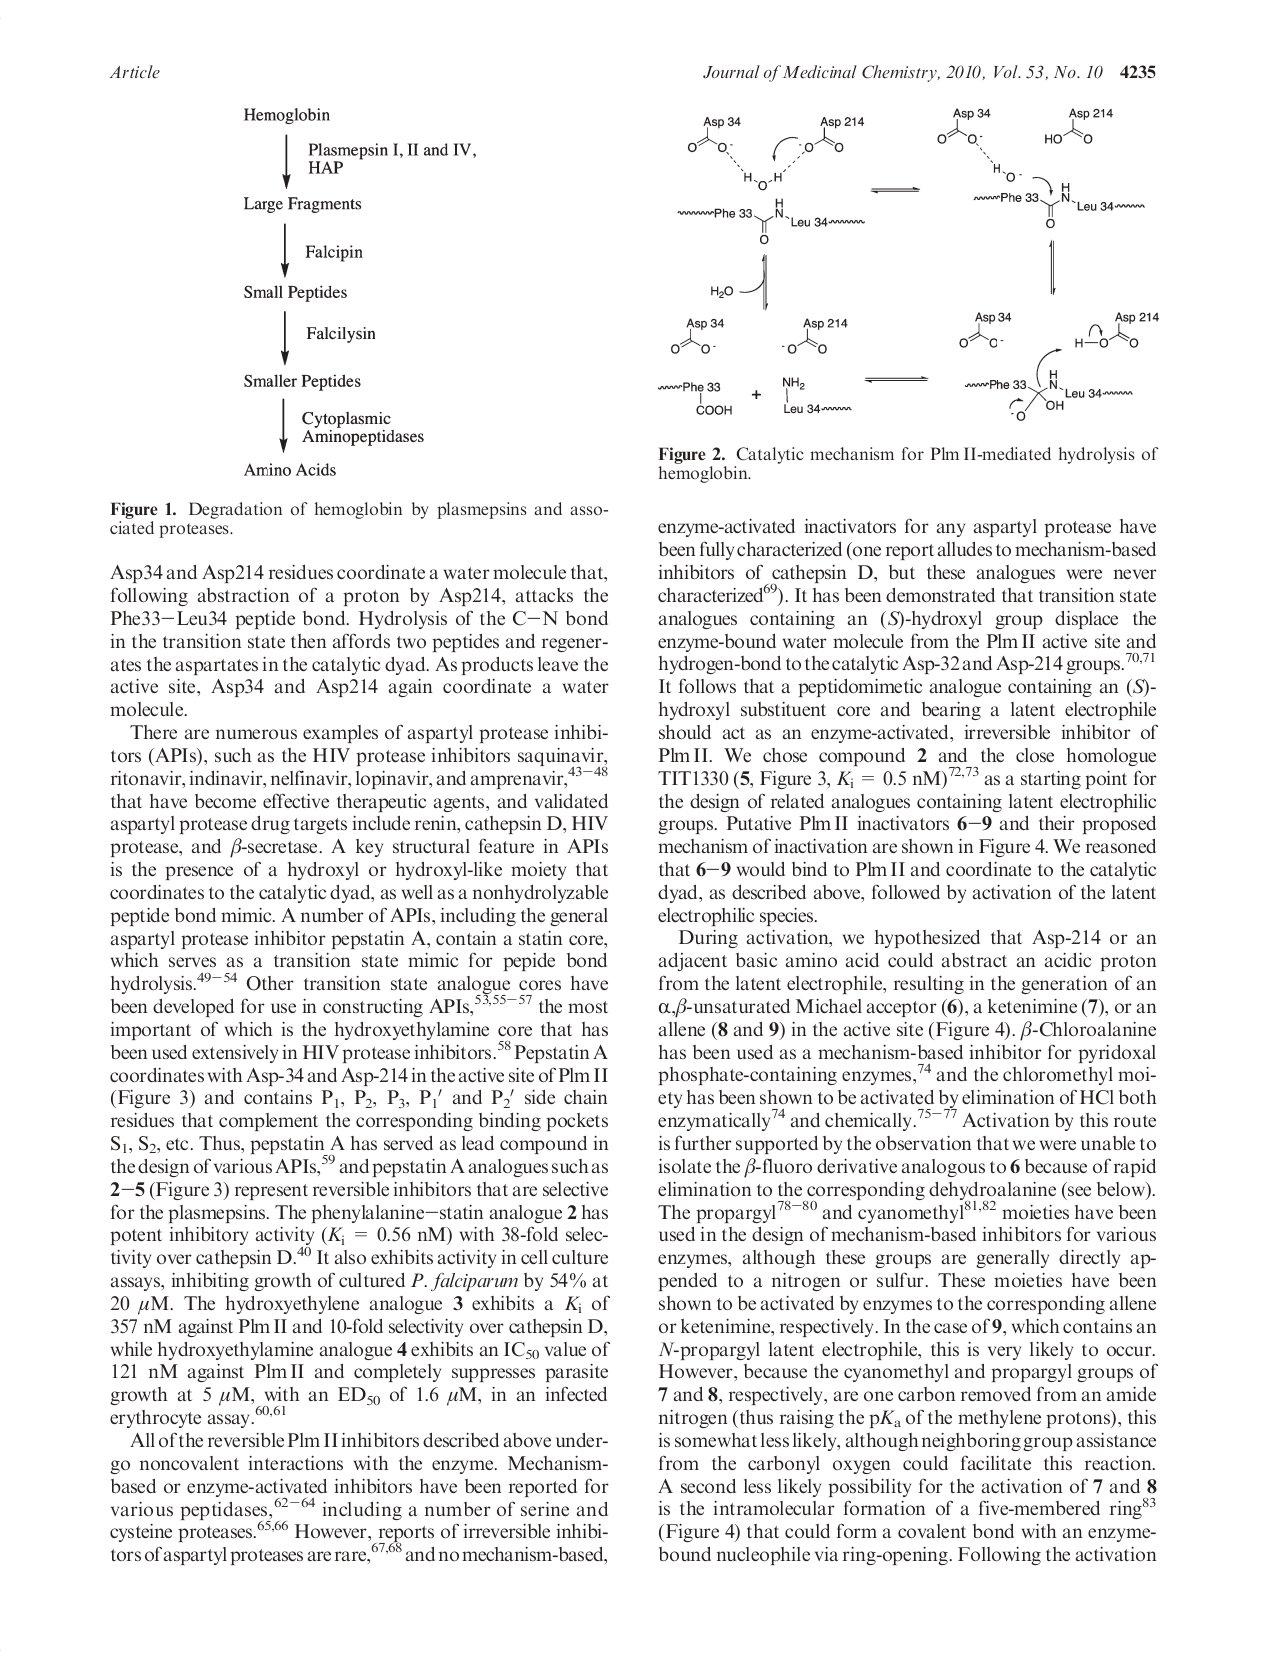exist_molecular: (1072, 307, 1165, 356), (1041, 104, 1121, 148), (802, 110, 871, 154), (953, 307, 1020, 351), (786, 314, 851, 358), (684, 110, 747, 154), (668, 314, 730, 356)
